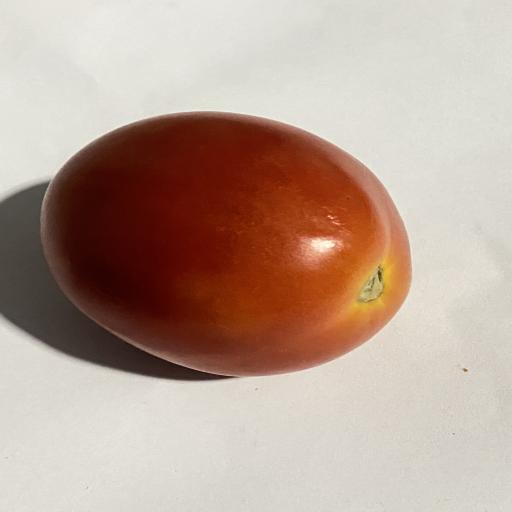ripe: (41, 112, 411, 376)
